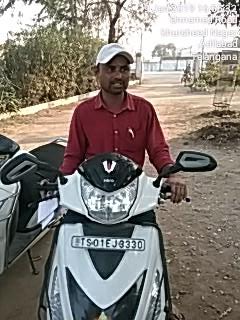plate: (71, 234, 148, 254)
